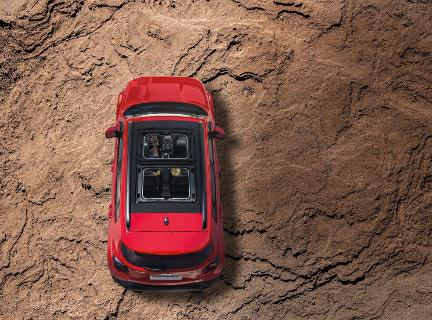Jeep-指南者: (106, 71, 236, 297)
